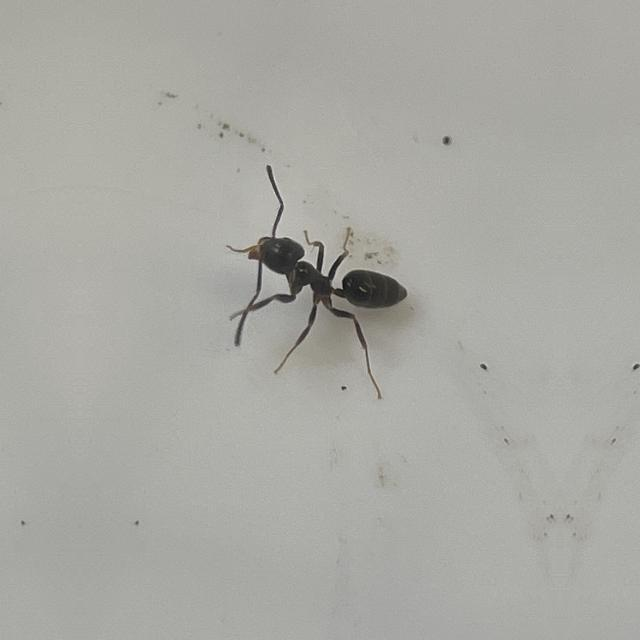Tapinoma: (224, 192, 412, 354)
